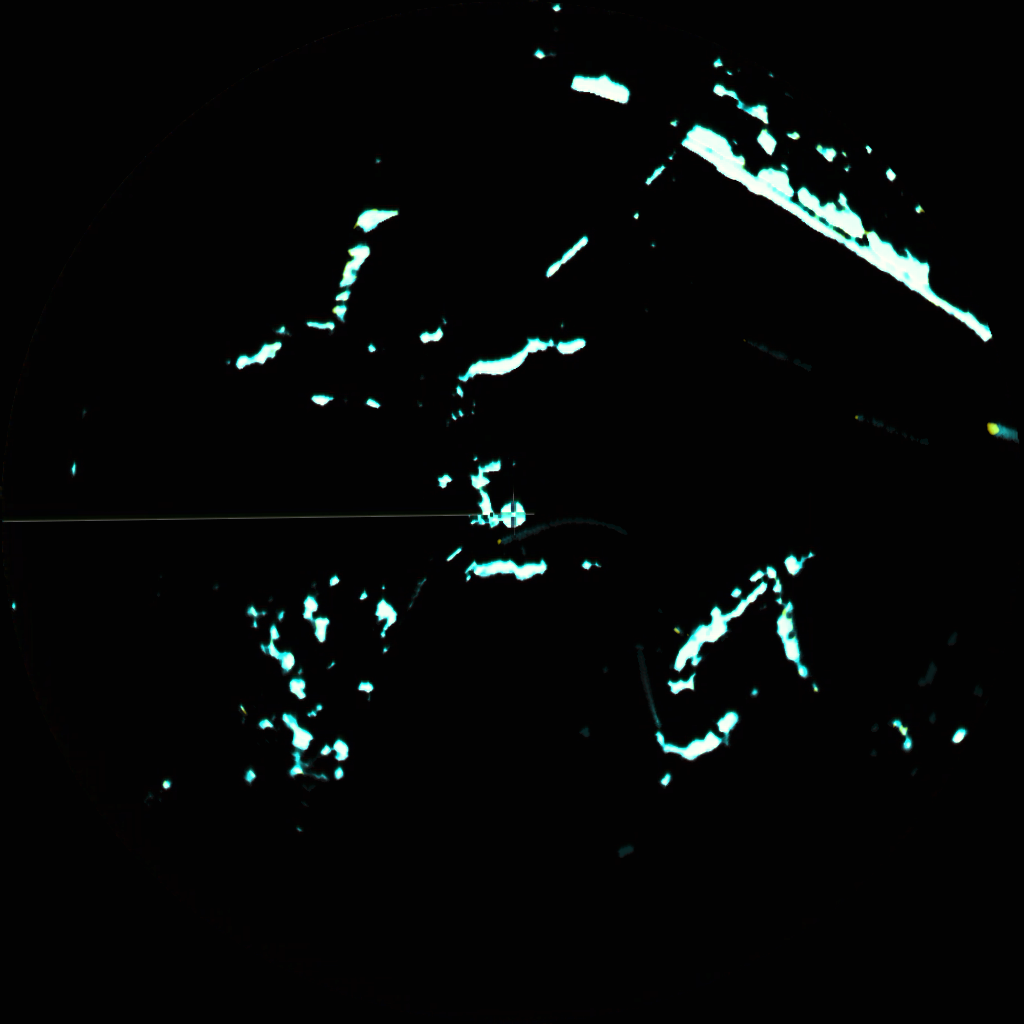B: (496, 526, 555, 548), (641, 678, 665, 728), (853, 408, 890, 436), (987, 419, 1021, 444)
